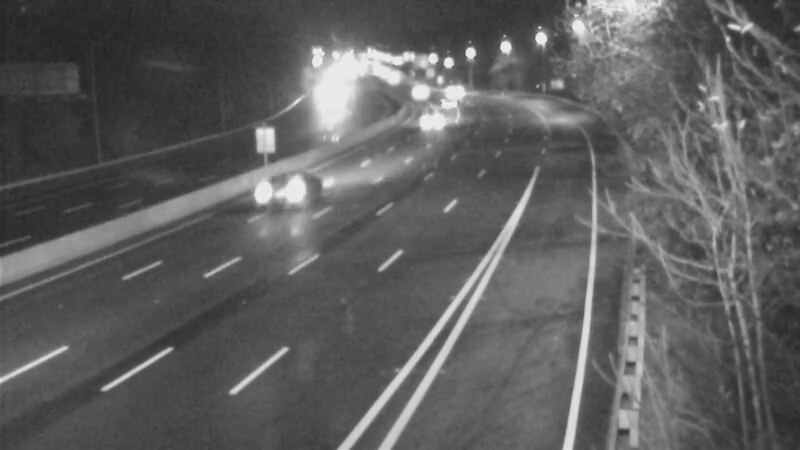vehicle: (247, 149, 327, 229), (393, 66, 443, 116), (426, 65, 476, 115), (425, 80, 475, 130), (403, 99, 453, 149), (303, 82, 353, 132)
